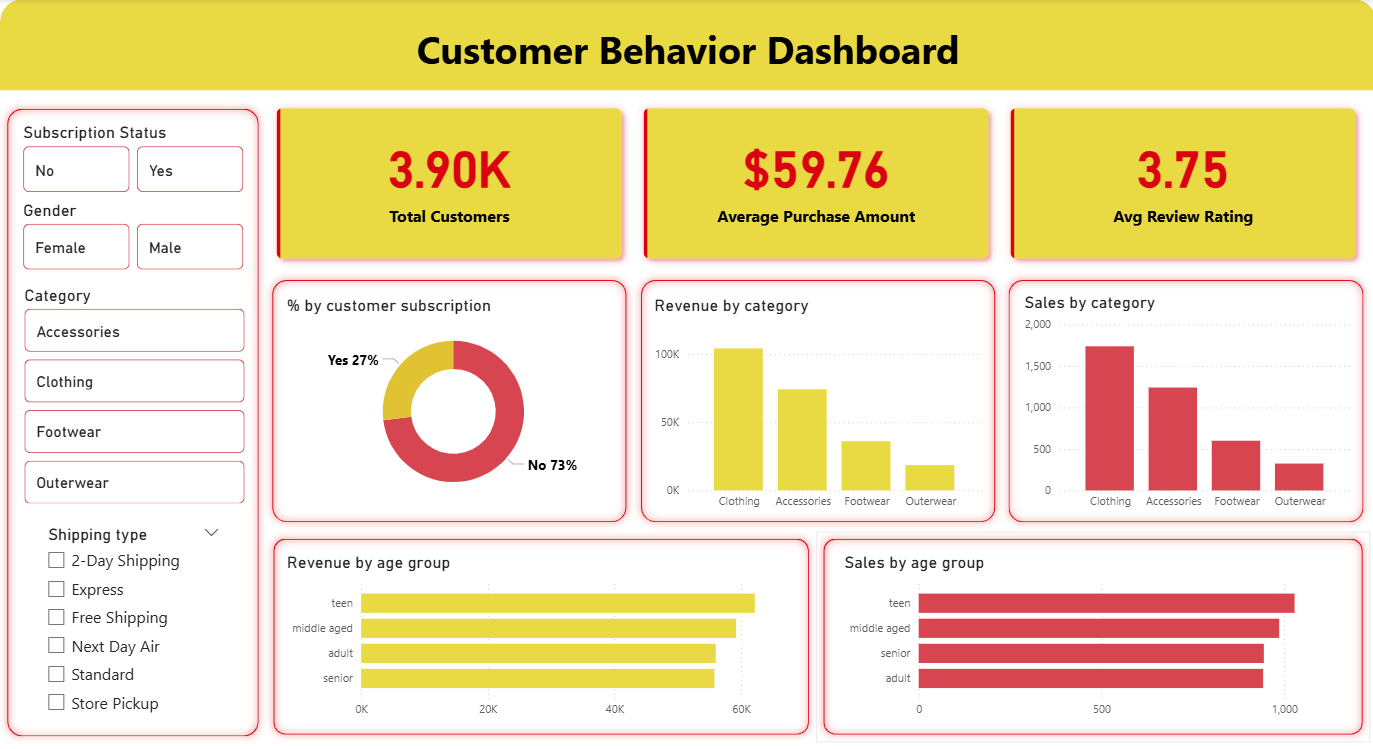

What the dashboard file says about the page in this screenshot:
{"tool":"powerbi","page":{"name":"Page 1","canvas":[1500,820],"ordinal":0},"visuals":[{"type":"shape","box":[1091.4,298.6,402.9,280],"z":0},{"type":"shape","box":[0,111.4,290,700],"z":1000},{"type":"shape","box":[289.5,299.1,402,279.8],"z":2000},{"type":"cardVisual","fields":{"Data":["public customer.Sum of Customers","public customer.Average Purchase Amount","public customer.Avg Review Rating"]},"box":[284.3,102.9,1210,198.6],"z":3000},{"type":"shape","box":[0,0,1500.3,99.7],"z":4000},{"type":"donutChart","title":"% by customer subscription","fields":{"Category":["public customer.subscription_status"],"Y":["CountNonNull(public customer.customer_id)"]},"box":[308.6,322.9,372.9,232.9],"z":5000},{"type":"shape","box":[691.5,299.1,402,279.8],"z":6000},{"type":"clusteredColumnChart","title":"Revenue by category","fields":{"Category":["public customer.category"],"Y":["Sum(public customer.purchase_amount)"]},"box":[708.6,322.9,367.1,242.9],"z":7000},{"type":"shape","box":[289.9,581.1,599.4,229.4],"z":8000},{"type":"shape","box":[889.3,581.1,603.7,229.4],"z":9000},{"type":"clusteredColumnChart","title":"Sales by category","fields":{"Category":["public customer.category"],"Y":["CountNonNull(public customer.customer_id)"]},"box":[1111.4,320,365.7,245.7],"z":10000},{"type":"advancedSlicerVisual","fields":{"Values":["public customer.subscription_status"]},"box":[20,134.3,250,81.4],"z":11000},{"type":"advancedSlicerVisual","fields":{"Values":["public customer.gender"]},"box":[20,220,250,81.4],"z":12000},{"type":"advancedSlicerVisual","fields":{"Values":["public customer.category"]},"box":[21.4,311.4,250,244.3],"z":13000},{"type":"slicer","fields":{"Values":["public customer.shipping_type"]},"box":[40,568.6,211.4,224.3],"z":14000},{"type":"clusteredBarChart","title":"Revenue by age group","fields":{"Y":["Sum(public customer.purchase_amount)"],"Category":["public customer.age_group"]},"box":[308.6,604.3,584.3,188.6],"z":15000},{"type":"clusteredBarChart","title":"Sales by age group","fields":{"Y":["CountNonNull(public customer.customer_id)"],"Category":["public customer.age_group"]},"box":[915.7,604.3,584.3,188.6],"z":16000}]}

Visuals, with their boxes in screenshot pixels (x1, y1, x2, y2), scaled from the page's 1500x820 canvas onto the 1373x749 screenshot:
shape: bbox(999, 273, 1368, 529)
shape: bbox(0, 102, 265, 741)
shape: bbox(265, 273, 633, 529)
cardVisual - public customer.Sum of Customers x public customer.Average Purchase Amount: bbox(260, 94, 1368, 275)
shape: bbox(0, 0, 1372, 91)
"% by customer subscription" donutChart: bbox(282, 295, 624, 508)
shape: bbox(633, 273, 1001, 529)
"Revenue by category" clusteredColumnChart: bbox(649, 295, 985, 517)
shape: bbox(265, 531, 814, 740)
shape: bbox(814, 531, 1367, 740)
"Sales by category" clusteredColumnChart: bbox(1017, 292, 1352, 517)
advancedSlicerVisual - public customer.subscription_status: bbox(18, 123, 247, 197)
advancedSlicerVisual - public customer.gender: bbox(18, 201, 247, 275)
advancedSlicerVisual - public customer.category: bbox(20, 284, 248, 508)
slicer - public customer.shipping_type: bbox(37, 519, 230, 724)
"Revenue by age group" clusteredBarChart: bbox(282, 552, 817, 724)
"Sales by age group" clusteredBarChart: bbox(838, 552, 1372, 724)
